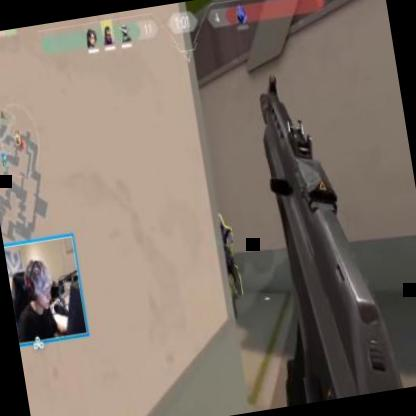enemy: (208, 208, 246, 320)
enemy_head: (214, 210, 226, 234)
